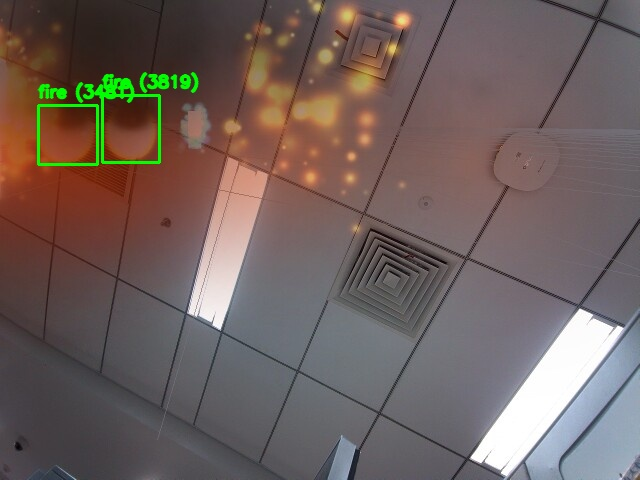fire: (102, 95, 159, 162), (38, 105, 97, 164)
